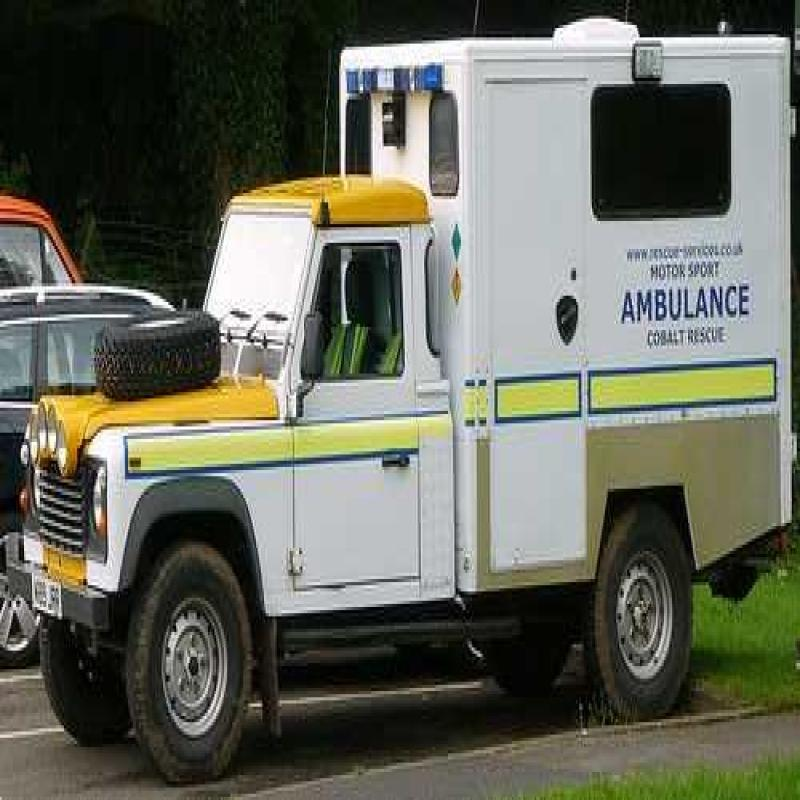AmbulanceSiren: (341, 33, 454, 120)
